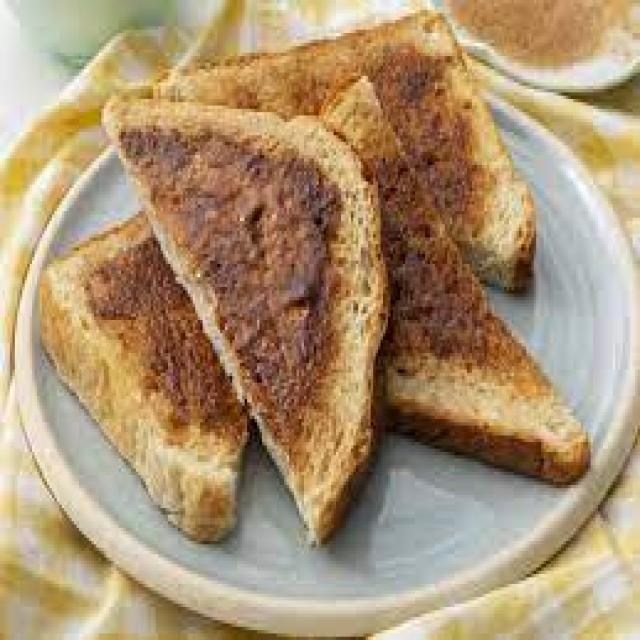Bread: (105, 100, 389, 543), (321, 77, 589, 483), (159, 13, 531, 290), (40, 216, 247, 540)
